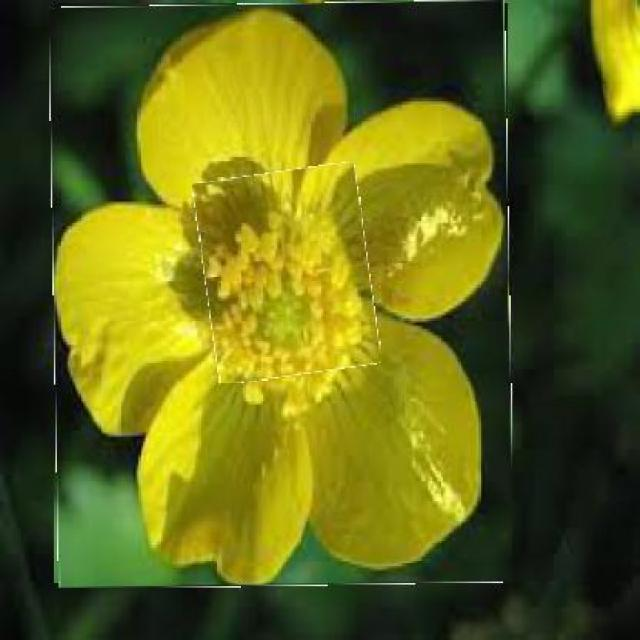Flower: (52, 2, 512, 586), (199, 167, 376, 381)
